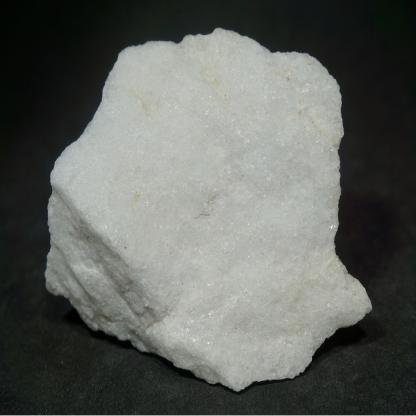Metamorphic_Quartize: (37, 23, 376, 388)
